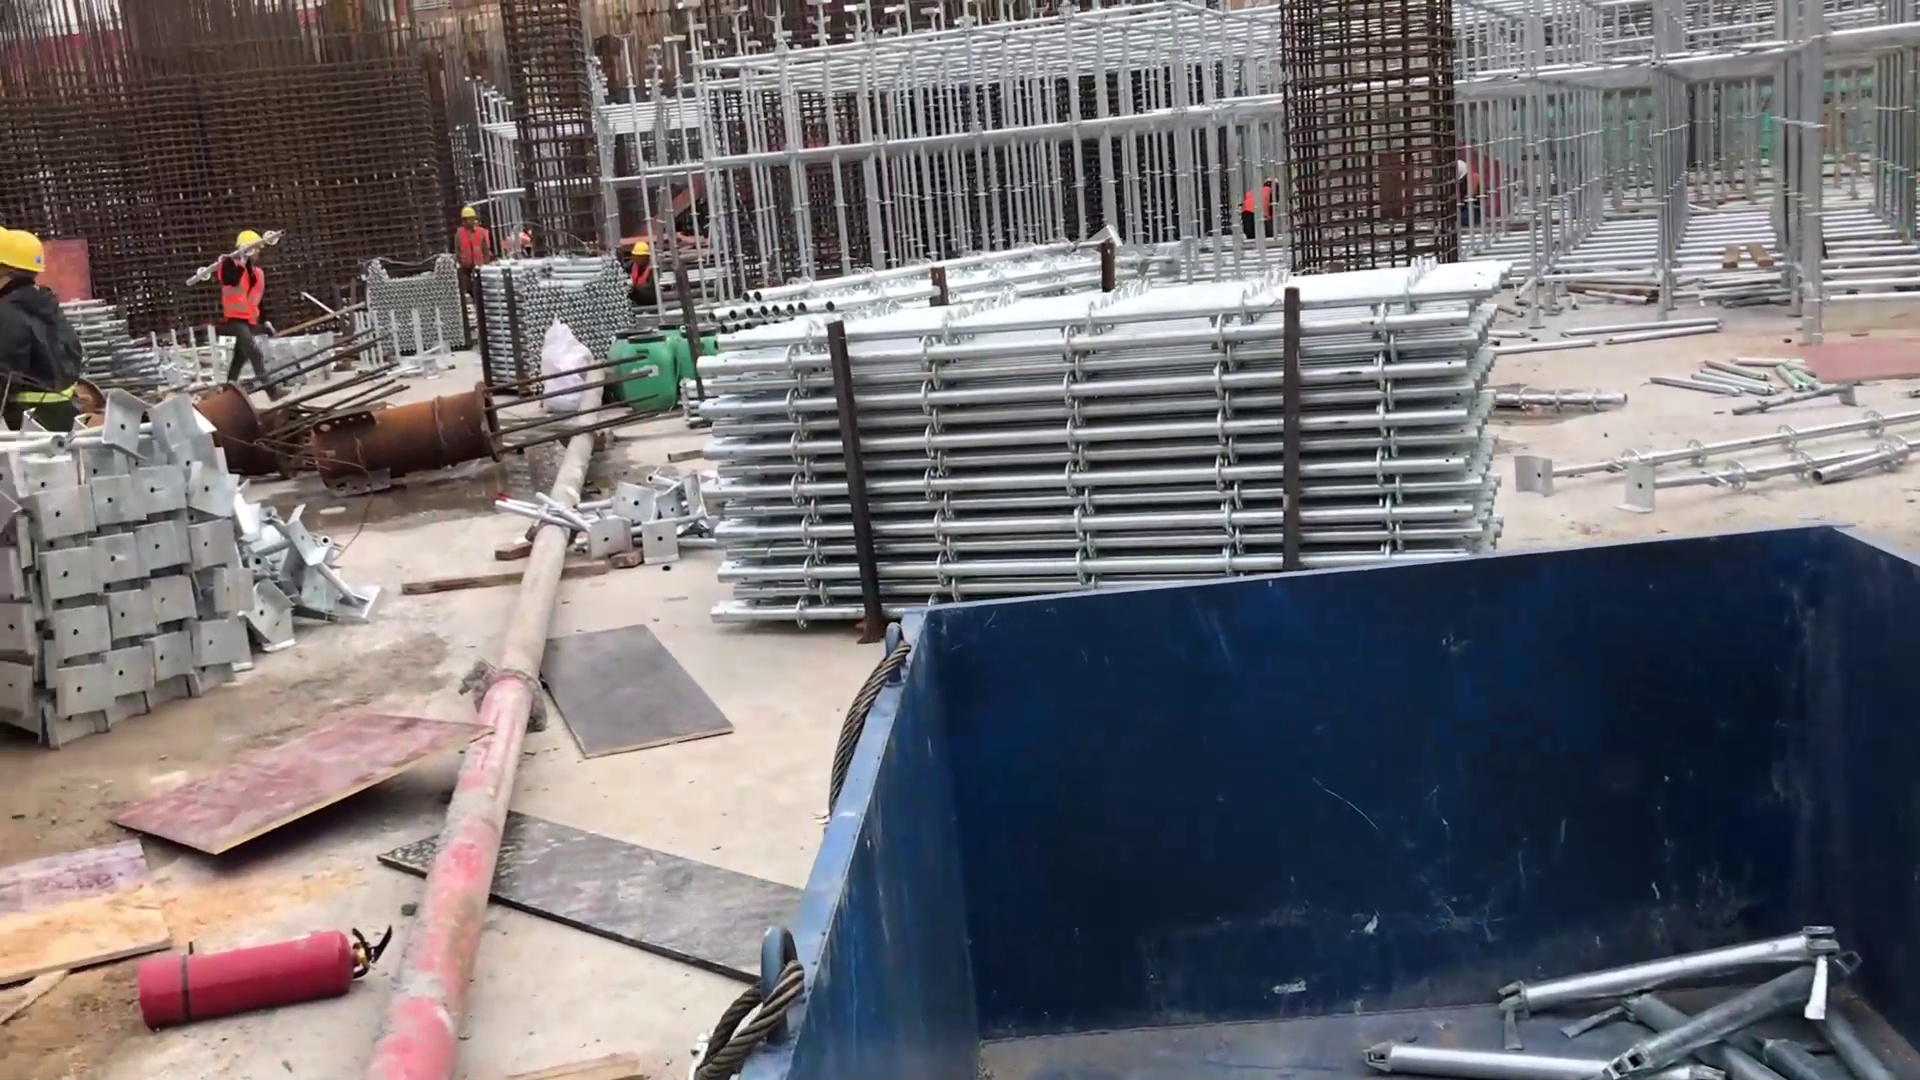board: (99, 702, 525, 865)
helmet: (1, 226, 48, 278), (236, 228, 261, 250), (631, 240, 655, 261), (458, 203, 477, 222)
hopper: (784, 509, 1920, 1080)
person: (1, 224, 93, 431), (201, 220, 286, 397), (441, 205, 493, 267), (621, 238, 666, 309), (1242, 174, 1283, 240)
scaffold: (686, 267, 1533, 552), (1, 407, 254, 722), (492, 249, 622, 392), (367, 245, 456, 350)
vest: (1, 279, 88, 420), (215, 255, 273, 326), (449, 224, 486, 271), (1245, 186, 1277, 227), (632, 266, 659, 300)
